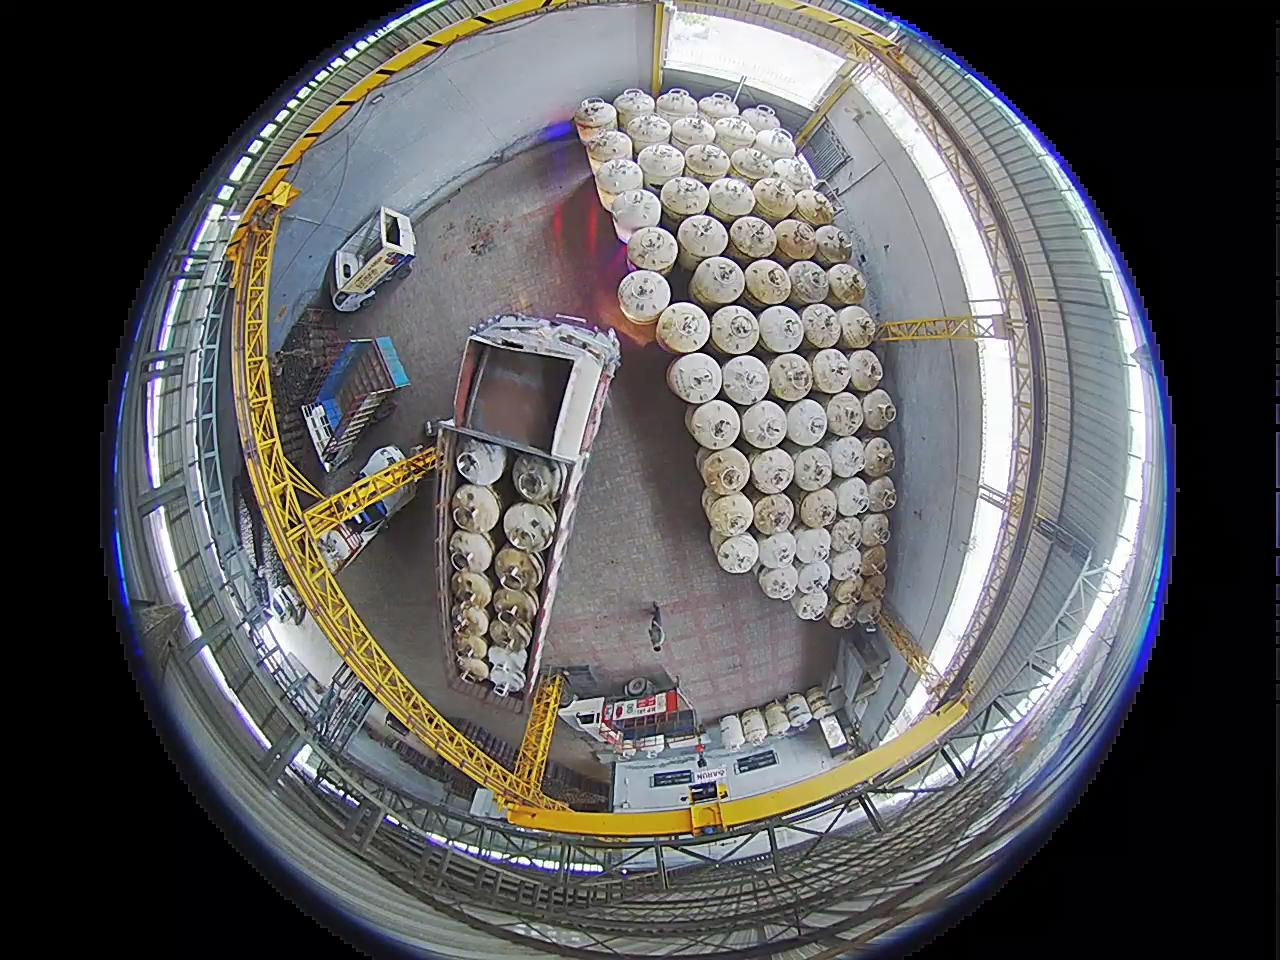cylinder: (618, 270, 703, 340), (447, 479, 512, 548), (689, 256, 745, 312), (666, 352, 722, 405), (688, 398, 742, 450), (511, 452, 564, 504), (696, 446, 751, 496), (719, 354, 771, 406), (709, 304, 762, 355), (617, 269, 667, 323), (455, 437, 508, 486), (740, 399, 790, 450), (757, 305, 807, 354), (494, 545, 542, 596), (744, 258, 795, 306), (677, 213, 728, 261), (625, 225, 675, 273), (770, 356, 815, 408), (749, 445, 797, 493), (659, 176, 710, 220), (611, 190, 658, 237), (707, 176, 756, 221), (706, 492, 754, 537), (636, 143, 686, 186), (509, 489, 544, 550), (790, 445, 835, 492), (785, 398, 830, 445), (596, 156, 644, 200), (751, 176, 798, 219), (810, 347, 853, 394), (786, 260, 830, 305), (799, 303, 842, 349), (493, 587, 537, 631), (751, 492, 795, 536), (775, 218, 820, 261), (684, 142, 731, 183), (586, 129, 633, 170), (625, 112, 673, 152), (824, 391, 865, 437), (573, 97, 616, 140), (827, 434, 868, 479), (670, 115, 717, 154), (798, 487, 840, 530), (825, 262, 867, 305), (451, 569, 492, 613), (716, 533, 760, 574), (836, 305, 877, 349), (655, 87, 699, 127), (756, 531, 799, 571), (314, 527, 354, 570), (730, 145, 775, 183), (489, 646, 527, 691), (792, 525, 833, 566), (612, 89, 654, 129), (832, 475, 871, 518), (713, 115, 757, 153), (814, 226, 854, 267), (847, 349, 885, 392), (770, 157, 812, 195), (861, 387, 898, 430), (794, 187, 835, 225), (753, 127, 797, 162), (757, 564, 798, 600), (861, 436, 896, 476), (697, 92, 738, 126), (451, 605, 490, 640), (791, 586, 828, 621), (829, 515, 863, 553), (740, 104, 780, 136), (795, 559, 830, 595), (865, 475, 898, 513), (829, 547, 863, 582), (469, 787, 503, 821), (860, 512, 892, 548), (828, 597, 861, 630), (455, 655, 490, 684), (831, 575, 863, 606), (785, 692, 814, 726), (453, 633, 488, 661), (859, 544, 888, 576), (709, 528, 738, 560), (807, 686, 834, 719), (851, 691, 876, 725), (858, 572, 887, 601), (855, 600, 882, 626), (457, 452, 481, 477)
truck: (349, 657, 848, 871), (434, 344, 600, 697), (614, 680, 820, 772), (310, 449, 421, 577), (298, 338, 393, 486), (563, 679, 701, 760), (328, 208, 416, 312), (300, 401, 339, 469), (269, 582, 308, 627)
